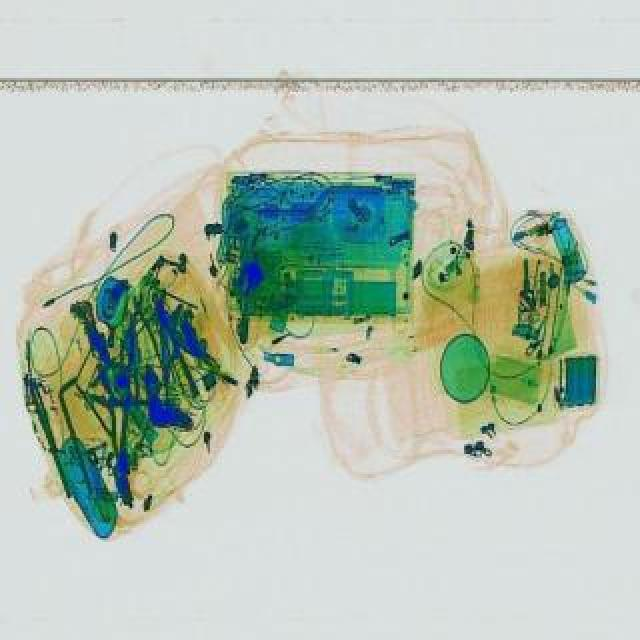wrench: (114, 286, 168, 390)
